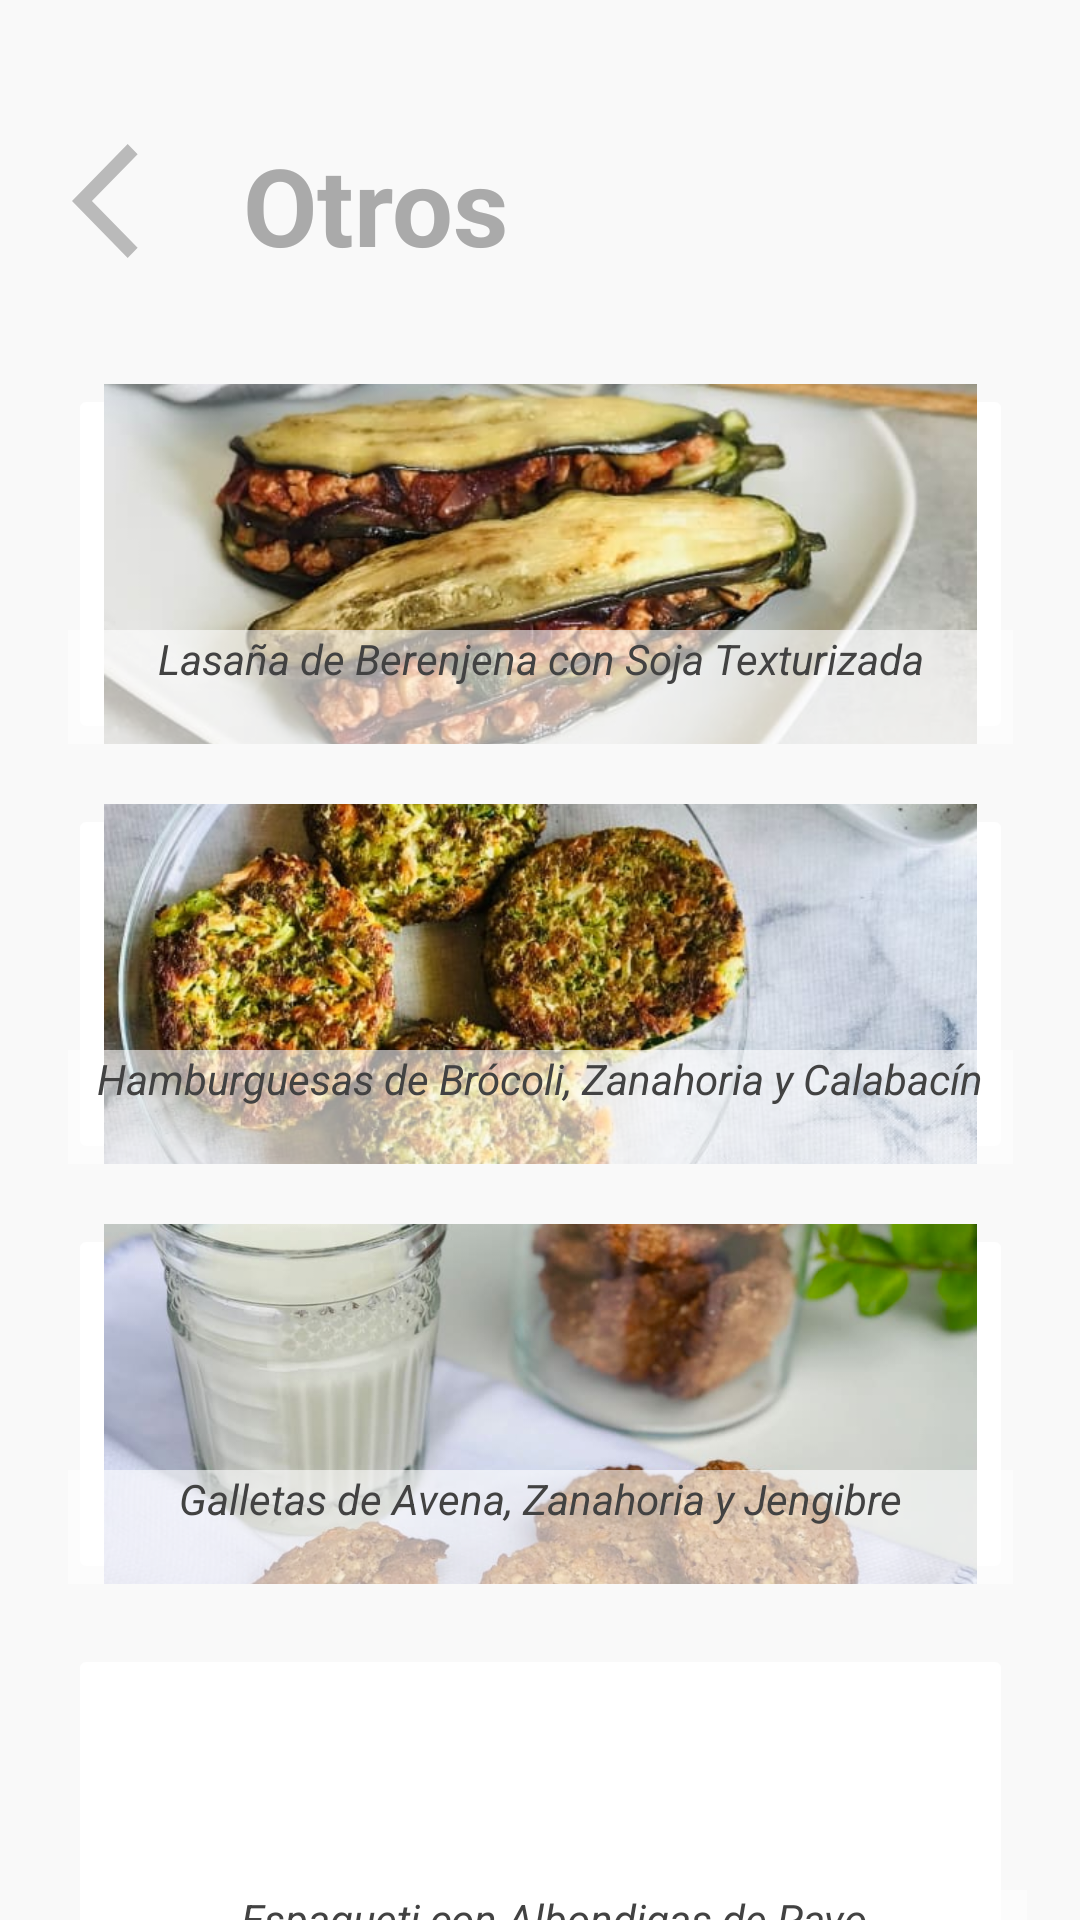

Icons on this 1080px x 1920px Android screen, each with the point to tap as (x=x, y=y):
flecha: (x=104, y=201)
